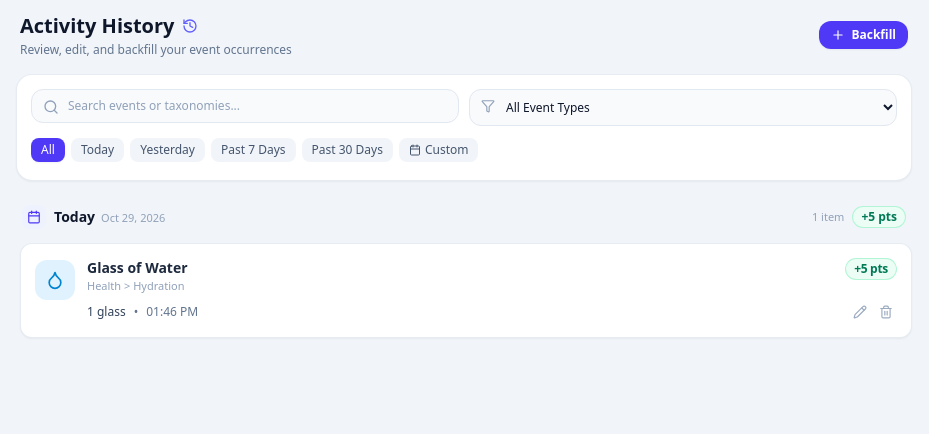
Test: HistoryView › shows filtered empty state and allows resetting filters
Step 1. Type "NonExistentHabit" into the field with test id "history-search-input" → (245, 106), box [31, 89, 459, 123]
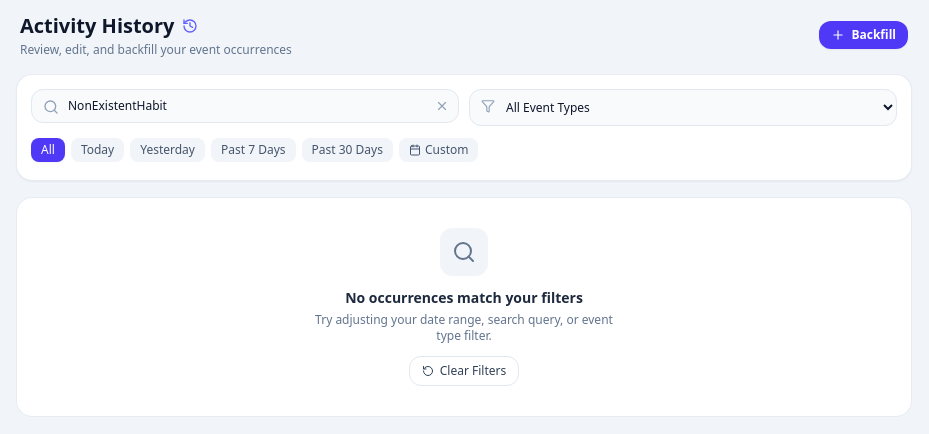
Result: the element with test id "history-filtered-empty-state" is shown at [16, 197, 912, 417]
Result: the text "No occurrences match your filters" is shown at [345, 288, 583, 307]
Note: Click Reset Filters
Step 2. Click the button with test id "reset-filters-btn" → click(464, 371), box [409, 356, 519, 386]
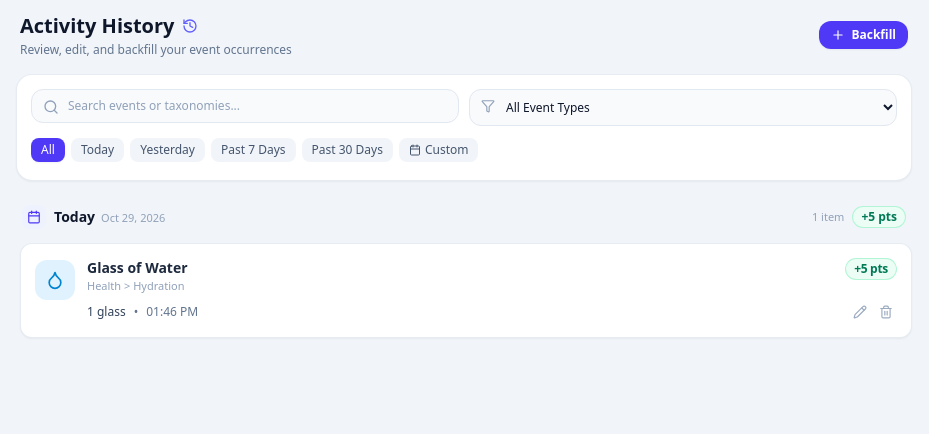
Result: the number of "HistoryTimelineItem" components is 1 at [20, 243, 912, 338]
Result: the text "Glass of Water" is shown at [87, 258, 188, 278]
